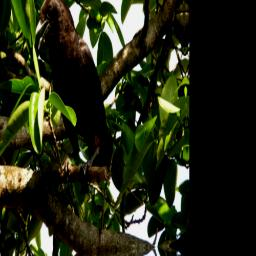Crow: (32, 0, 114, 188)
